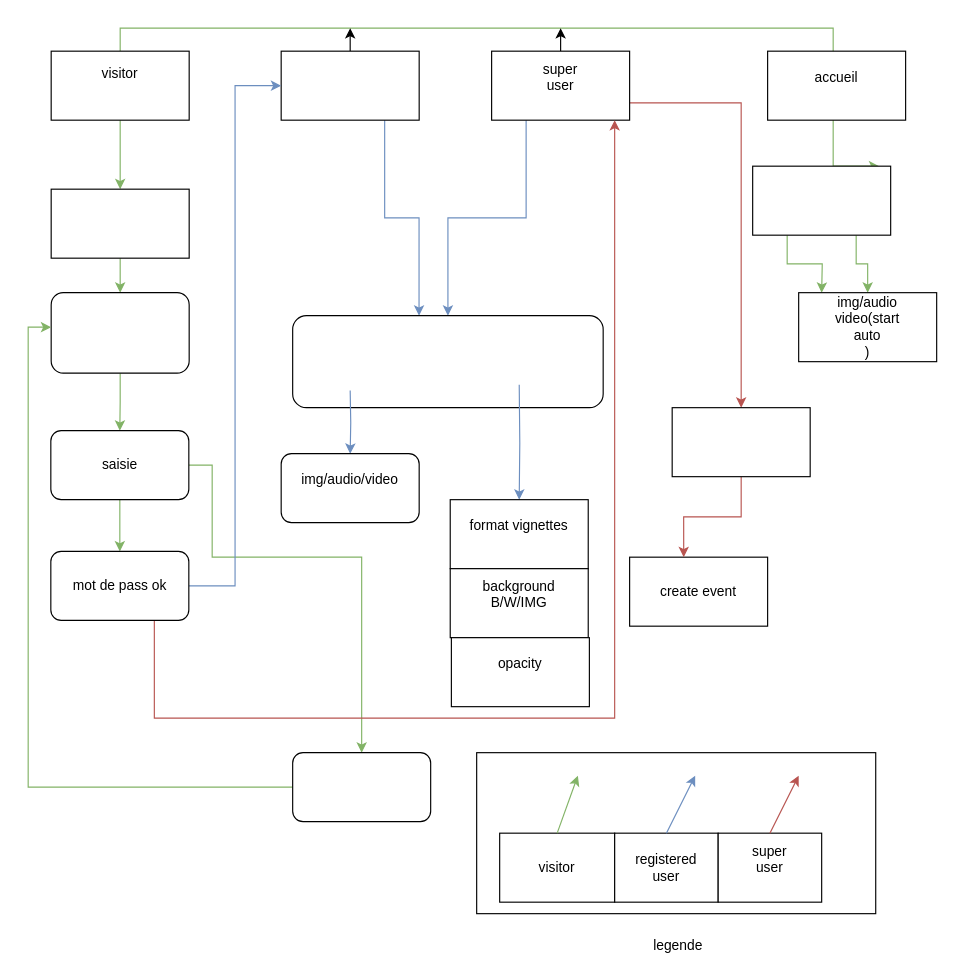
Image size: 957x978. Some labels were removed from this diagram. The centre of each missing label's shape, as x and y in pixels:
connection bouton se connecter: (x=119, y=223)
fail: (x=361, y=787)
full page: (x=821, y=200)
leveller user: (x=740, y=442)
modal: mail/pseudo pass mdp oublier: (x=119, y=332)
register user: (x=349, y=85)
upload/modif parametrage: (x=447, y=361)
